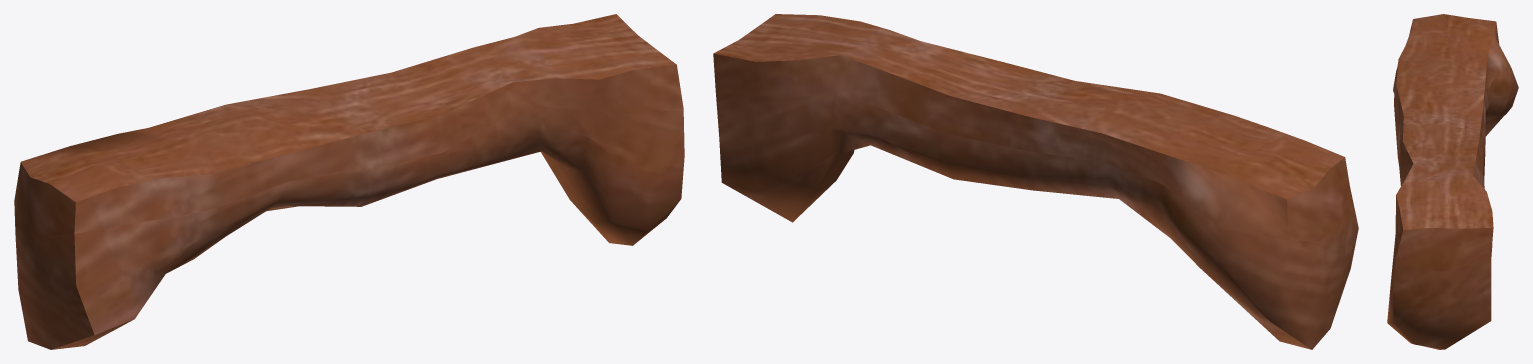
The model's file is Canyon_Rock_Platforms_9.glb.
3 views of the same model, side by side, from view 1: azimuth 30°, elevation 25°; view 2: azimuth 150°, elevation 25°; view 3: azimuth 270°, elevation 25° (orthographic). The views are drawn at different scales.
Visible parts, largest first — view 1: Canyon_Rock_Platforms_9_0; view 2: Canyon_Rock_Platforms_9_0; view 3: Canyon_Rock_Platforms_9_0.
Part boxes in pixels (x1,y1,x2,y2): Canyon_Rock_Platforms_9_0: (14, 14, 684, 349); Canyon_Rock_Platforms_9_0: (713, 14, 1358, 349); Canyon_Rock_Platforms_9_0: (1387, 14, 1518, 349).
Size of the model in its own units: 21.59 by 6.82 by 5.44.
1 material, 1 textured.
